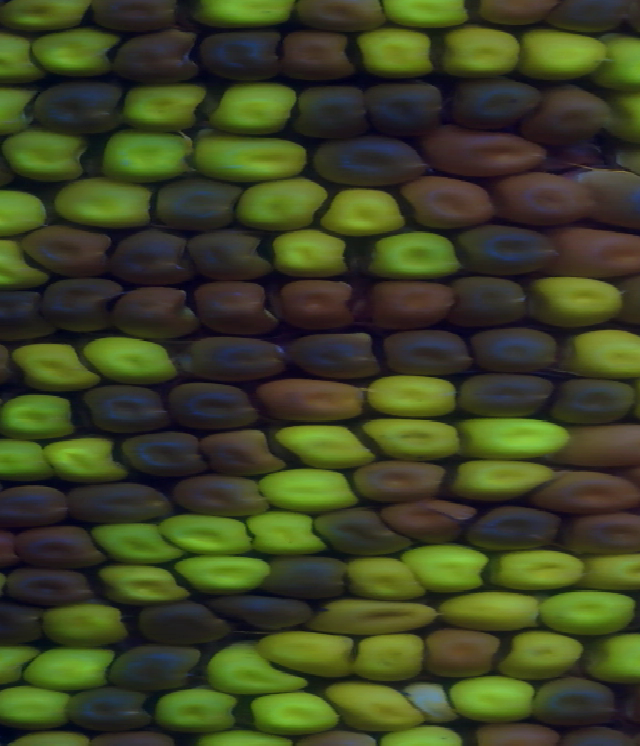fluorescent: (457, 413, 578, 463), (200, 134, 313, 187), (0, 125, 94, 184), (60, 172, 158, 228), (259, 632, 358, 687), (507, 29, 610, 81), (361, 414, 464, 466), (211, 639, 308, 694), (398, 540, 497, 593), (481, 546, 590, 593), (311, 597, 444, 635), (274, 424, 380, 471), (252, 468, 357, 515), (83, 335, 182, 384), (95, 564, 194, 613), (20, 646, 123, 693), (344, 550, 435, 602), (528, 275, 619, 326), (9, 341, 96, 394), (39, 436, 131, 486), (454, 454, 556, 499), (38, 605, 137, 651), (120, 78, 207, 128), (442, 675, 538, 720), (178, 554, 279, 596), (248, 693, 340, 739), (326, 188, 409, 238), (370, 232, 460, 278), (160, 512, 250, 558), (217, 79, 295, 132), (358, 28, 438, 79), (243, 178, 328, 226), (99, 133, 196, 175), (29, 31, 119, 76), (324, 693, 433, 730), (367, 377, 460, 420), (156, 687, 244, 732), (502, 633, 588, 679), (90, 522, 184, 564), (355, 636, 428, 688), (578, 625, 640, 686), (244, 513, 332, 555), (542, 593, 639, 631), (434, 593, 542, 627), (446, 24, 522, 72), (179, 1, 300, 31), (0, 393, 77, 440), (276, 228, 352, 272), (576, 329, 640, 380), (0, 685, 74, 728), (0, 440, 61, 489), (380, 1, 475, 28), (587, 544, 640, 592), (0, 1, 96, 27), (0, 189, 52, 236), (0, 238, 47, 288), (607, 83, 640, 145), (598, 37, 640, 84), (0, 30, 43, 73), (0, 90, 41, 134)
nonfluorescent: (255, 370, 370, 422), (315, 139, 430, 190), (310, 504, 412, 560), (103, 643, 208, 696), (470, 501, 563, 558), (496, 178, 602, 228), (401, 175, 495, 231), (74, 385, 173, 438), (370, 276, 460, 333), (283, 330, 384, 380), (381, 498, 471, 554), (551, 226, 640, 280), (383, 324, 471, 378), (167, 378, 260, 429), (363, 80, 449, 135), (201, 29, 289, 82), (336, 463, 447, 505), (182, 335, 284, 380), (23, 226, 114, 276), (424, 129, 540, 167), (459, 224, 546, 274), (471, 327, 558, 377), (150, 182, 242, 229), (553, 371, 636, 423), (545, 468, 640, 513), (116, 285, 199, 336), (550, 423, 640, 470), (450, 278, 529, 329), (261, 551, 350, 596), (460, 373, 553, 416), (119, 433, 207, 478), (38, 86, 124, 132), (527, 88, 604, 139), (137, 603, 235, 643), (66, 688, 155, 732), (210, 593, 310, 632), (196, 282, 277, 330), (562, 508, 640, 557), (117, 35, 200, 81), (13, 524, 96, 570), (64, 486, 174, 520), (0, 571, 97, 609), (529, 678, 616, 720), (41, 280, 115, 329), (171, 474, 269, 511), (295, 89, 366, 140), (279, 281, 357, 326), (199, 433, 281, 475), (109, 233, 187, 277), (294, 1, 397, 34), (419, 632, 501, 673), (452, 84, 534, 124), (285, 31, 354, 77), (584, 170, 640, 226), (188, 233, 262, 275), (80, 1, 184, 28), (474, 719, 572, 746), (466, 1, 559, 28), (564, 1, 631, 36), (0, 488, 68, 522), (0, 293, 47, 337), (561, 723, 636, 746), (0, 606, 45, 640)
